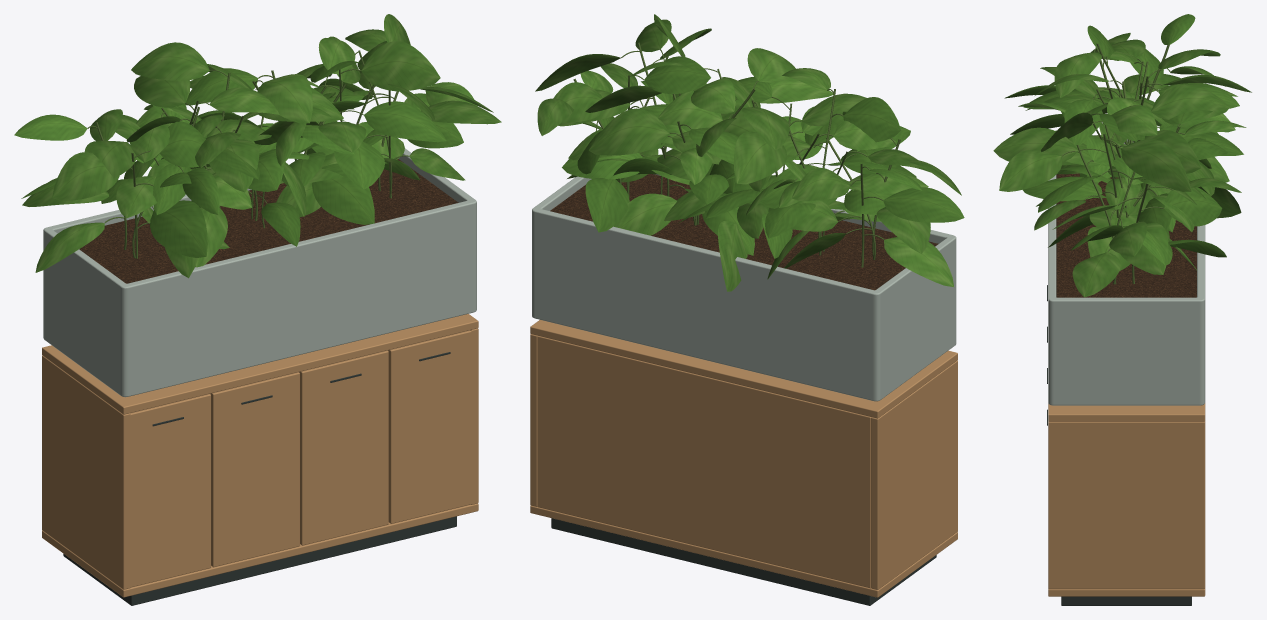
Rendered from botanicalDivider-14.glb.
3 renders of one model, left to right at view 1: azimuth 30°, elevation 25°; view 2: azimuth 150°, elevation 25°; view 3: azimuth 270°, elevation 25°, orthographic. The views are drawn at different scales.
Visible parts, largest first — view 1: StoragePlanter_Door (×4), Planter_pothos_leaves, Planter_oiled_oak, StoragePlanter_Side (×2), Planter_loose_soil, StoragePlanter_Top, StoragePlanter_Bottom, StoragePlanter_Plinth, Planter_pothos_stems; view 2: Planter_pothos_leaves, StoragePlanter_Back, Planter_oiled_oak, StoragePlanter_Side (×2), Planter_loose_soil, StoragePlanter_Top, StoragePlanter_Plinth, StoragePlanter_Bottom, Planter_pothos_stems, Planter_matte_accent; view 3: Planter_pothos_leaves, StoragePlanter_Side, Planter_oiled_oak, Planter_loose_soil, Planter_pothos_stems, StoragePlanter_Top, StoragePlanter_Plinth, StoragePlanter_Bottom.
Boxes of the visible parts, left/top/right/bottom form: StoragePlanter_Door (×4): left=125, top=330, right=476, bottom=587; Planter_pothos_leaves: left=14, top=14, right=501, bottom=278; Planter_oiled_oak: left=43, top=148, right=476, bottom=397; StoragePlanter_Side (×2): left=42, top=328, right=478, bottom=589; Planter_loose_soil: left=79, top=159, right=458, bottom=283; StoragePlanter_Top: left=42, top=314, right=478, bottom=414; StoragePlanter_Bottom: left=42, top=503, right=478, bottom=597; StoragePlanter_Plinth: left=63, top=516, right=456, bottom=605; Planter_pothos_stems: left=87, top=50, right=409, bottom=258; Planter_pothos_leaves: left=535, top=14, right=964, bottom=291; StoragePlanter_Back: left=537, top=336, right=871, bottom=588; Planter_oiled_oak: left=532, top=174, right=956, bottom=401; StoragePlanter_Side (×2): left=530, top=334, right=957, bottom=589; Planter_loose_soil: left=550, top=174, right=938, bottom=290; StoragePlanter_Top: left=530, top=320, right=957, bottom=418; StoragePlanter_Plinth: left=551, top=518, right=936, bottom=605; StoragePlanter_Bottom: left=530, top=505, right=957, bottom=597; Planter_pothos_stems: left=573, top=42, right=900, bottom=267; Planter_matte_accent: left=541, top=299, right=868, bottom=378; Planter_pothos_leaves: left=993, top=14, right=1251, bottom=297; StoragePlanter_Side: left=1048, top=421, right=1205, bottom=589; Planter_oiled_oak: left=1048, top=135, right=1205, bottom=405; Planter_loose_soil: left=1056, top=173, right=1196, bottom=297; Planter_pothos_stems: left=1062, top=43, right=1185, bottom=284; StoragePlanter_Top: left=1048, top=403, right=1205, bottom=421; StoragePlanter_Plinth: left=1061, top=596, right=1191, bottom=605; StoragePlanter_Bottom: left=1048, top=588, right=1205, bottom=596.
Size of the model in its own units: 1.46 by 1.58 by 0.7924.
9 materials, 2 textured.
